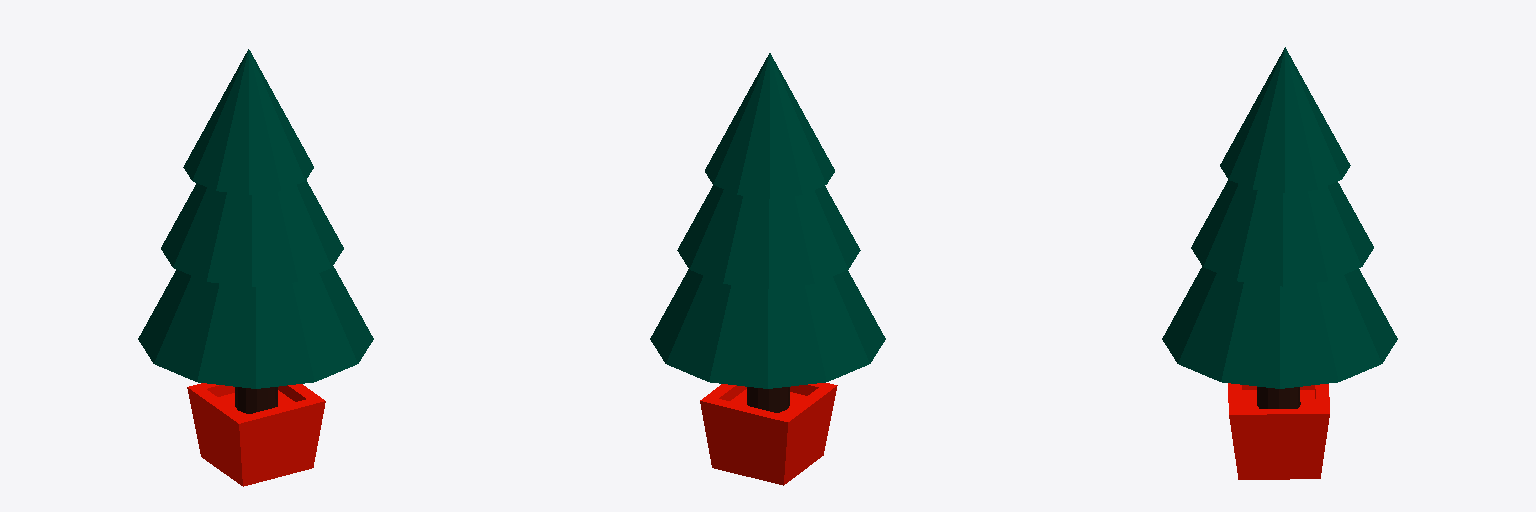
3 renders of one model, left to right at view 1: azimuth 30°, elevation 25°; view 2: azimuth 150°, elevation 25°; view 3: azimuth 270°, elevation 25°, orthographic.
Parts seen in each view (by area): view 1: group[number redacted], group[number redacted], group[number redacted], group[number redacted], group[number redacted]; view 2: group[number redacted], group[number redacted], group[number redacted], group[number redacted], group[number redacted]; view 3: group[number redacted], group[number redacted], group[number redacted], group[number redacted], group[number redacted].
Boxes of the visible parts, <box> form: group[number redacted]: <box>138,266,373,388</box>; group[number redacted]: <box>161,180,343,286</box>; group[number redacted]: <box>183,49,313,194</box>; group[number redacted]: <box>187,383,325,486</box>; group[number redacted]: <box>235,387,277,413</box>; group[number redacted]: <box>650,269,885,388</box>; group[number redacted]: <box>677,185,860,288</box>; group[number redacted]: <box>705,53,834,198</box>; group[number redacted]: <box>700,383,837,485</box>; group[number redacted]: <box>747,387,789,412</box>; group[number redacted]: <box>1162,266,1397,388</box>; group[number redacted]: <box>1191,180,1373,286</box>; group[number redacted]: <box>1220,47,1350,192</box>; group[number redacted]: <box>1228,383,1329,479</box>; group[number redacted]: <box>1257,387,1300,408</box>.
Size of the model in its own units: 0.1 by 0.1934 by 0.1.